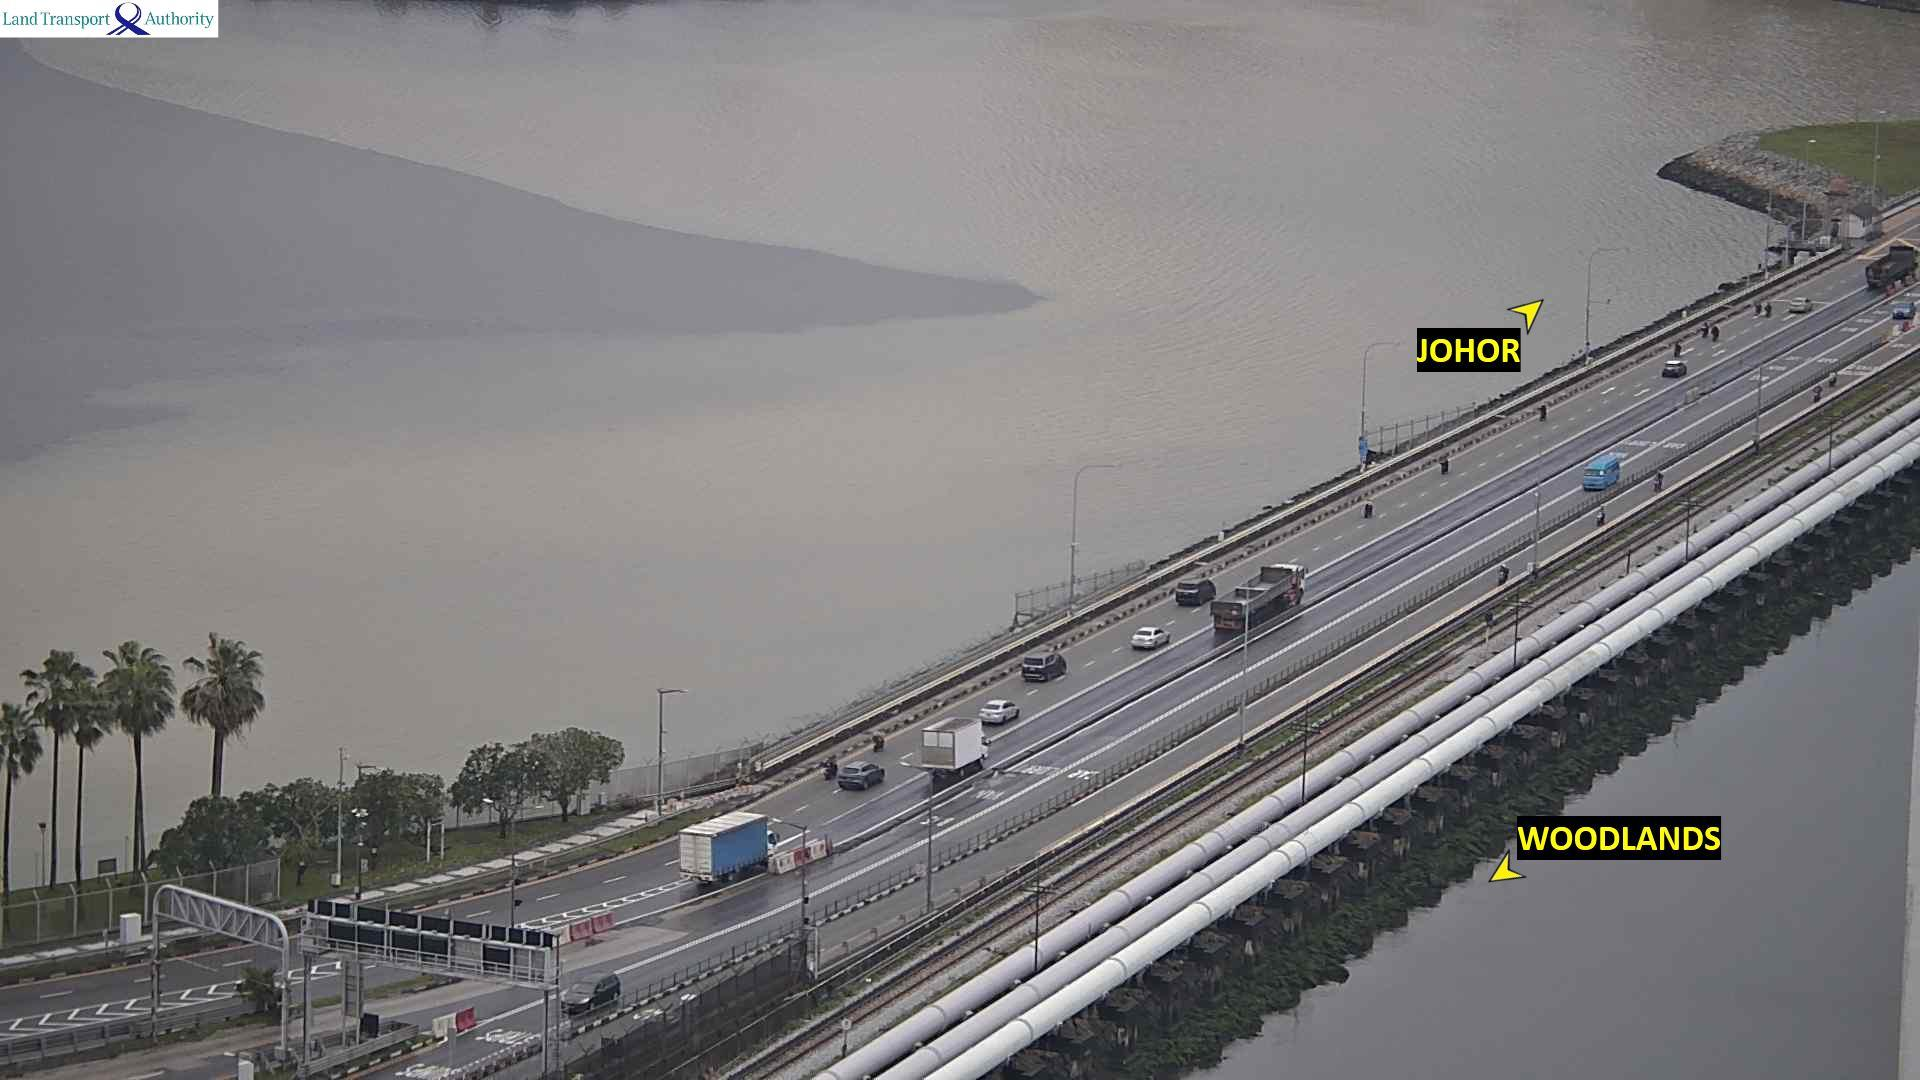vehicle-causeway-johor: (679, 811, 777, 876), (1216, 566, 1306, 625), (920, 717, 987, 778), (1868, 245, 1918, 284), (1023, 654, 1070, 681), (837, 767, 884, 791), (1173, 581, 1215, 607), (984, 697, 1022, 721), (1133, 626, 1168, 648), (1663, 361, 1687, 380), (1790, 297, 1813, 312), (869, 728, 883, 752), (820, 751, 833, 774), (1365, 498, 1374, 518), (1539, 404, 1548, 420), (1752, 301, 1761, 317), (1711, 325, 1721, 339), (1441, 457, 1449, 474), (1764, 303, 1774, 316), (1700, 322, 1708, 338), (1676, 341, 1682, 358)
vehicle-causeway-singapore: (564, 978, 625, 1010), (1579, 456, 1619, 491), (1893, 301, 1917, 317), (1596, 505, 1606, 526), (1498, 563, 1509, 582), (1654, 472, 1663, 490), (1813, 385, 1821, 401), (1829, 371, 1837, 387)
